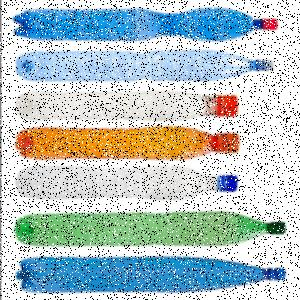Plastic-bottle: (16, 257, 287, 295), (13, 212, 287, 249), (12, 9, 280, 43), (15, 51, 276, 83), (16, 165, 240, 202), (15, 127, 240, 163), (17, 91, 241, 123)
